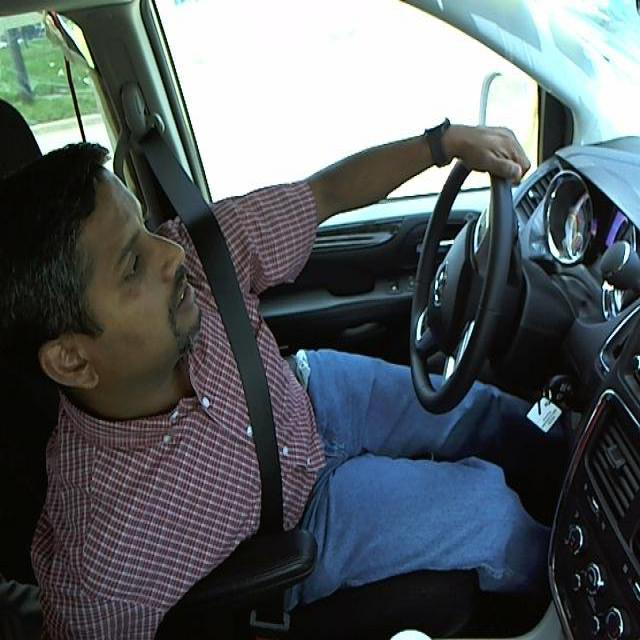seatbelt: (198, 246, 316, 542)
